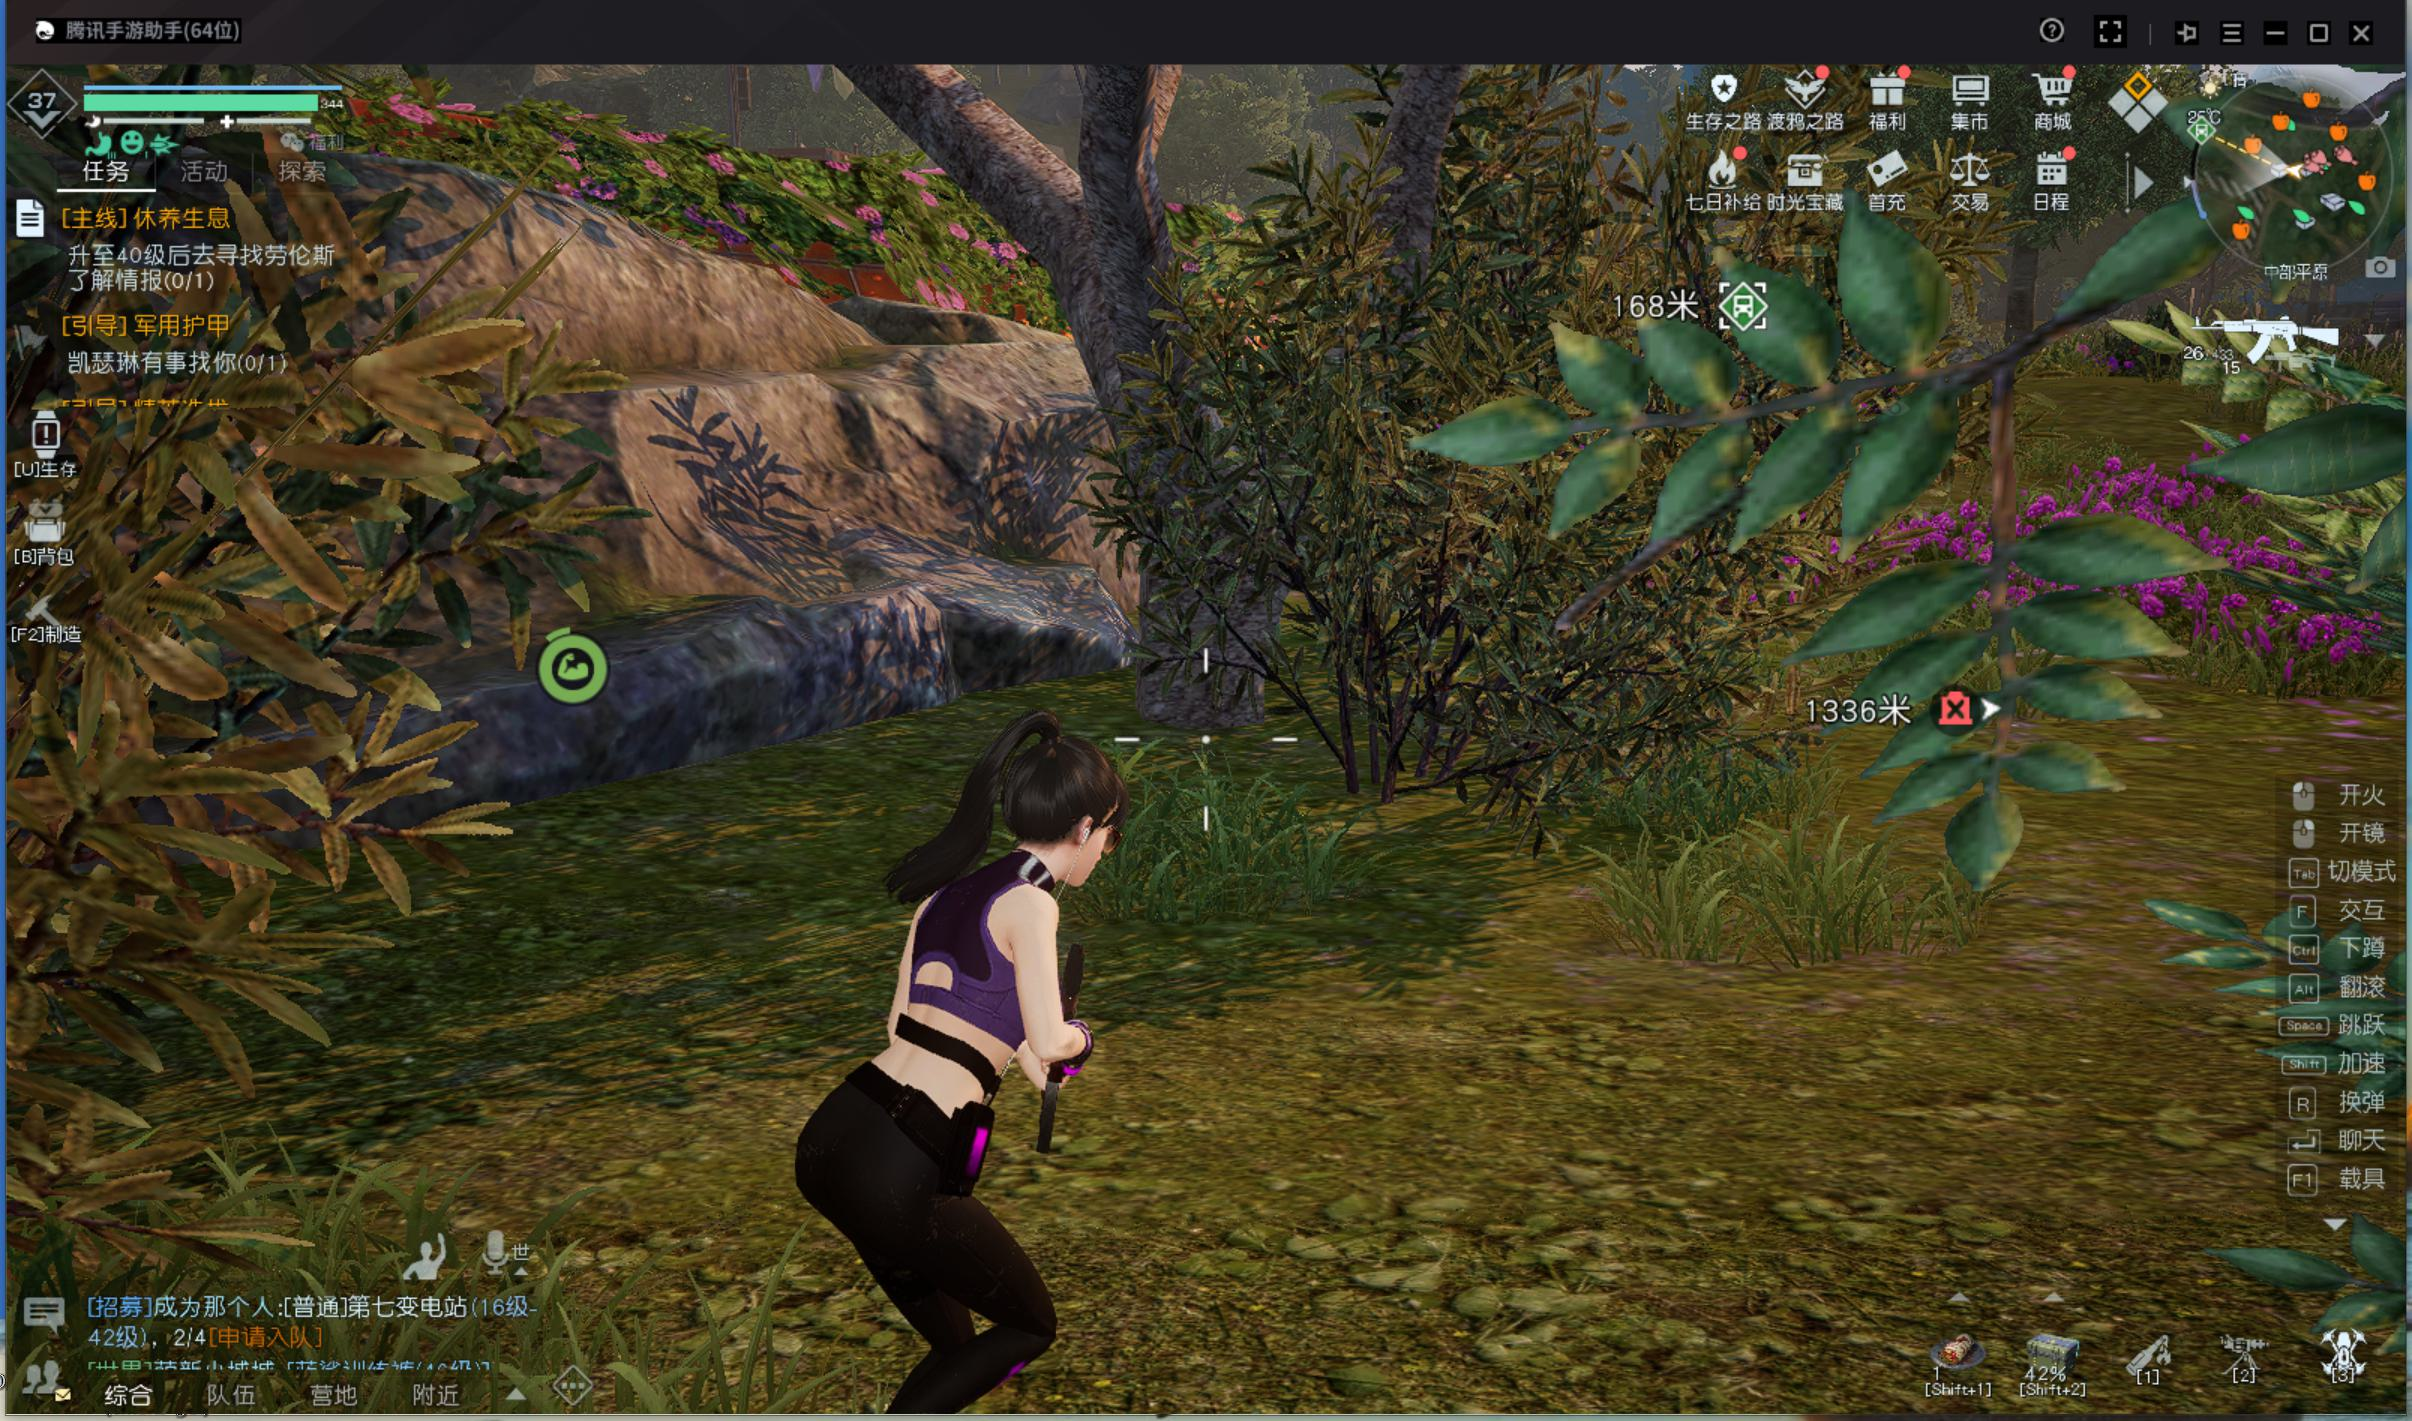tree: (993, 210, 1370, 712)
